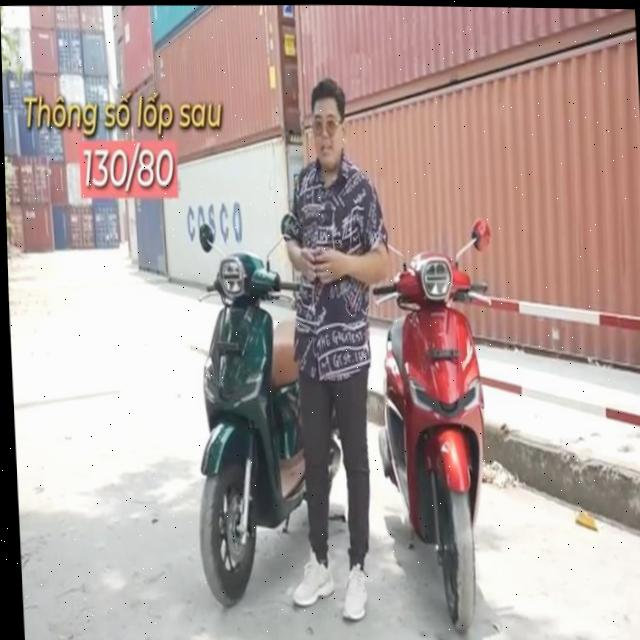motorcycle: (362, 235, 508, 628), (178, 210, 313, 615)
